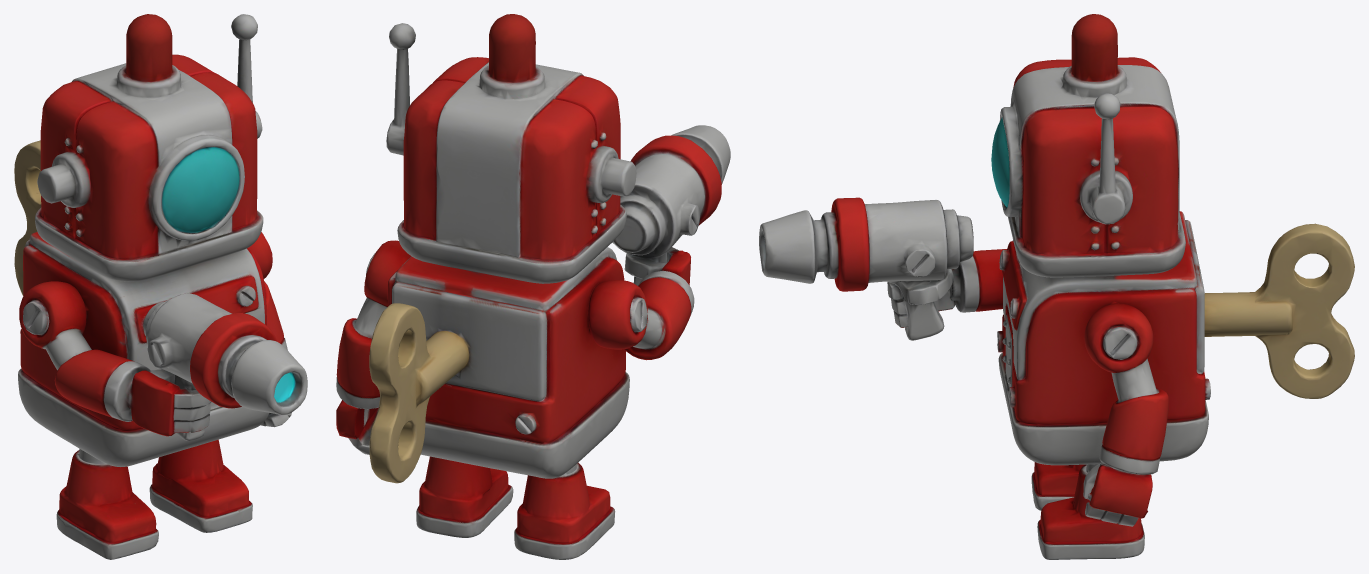
File: laser_robot.glb
3 renders of one model, left to right at view 1: azimuth 30°, elevation 25°; view 2: azimuth 150°, elevation 25°; view 3: azimuth 270°, elevation 25°, orthographic.
Parts seen in each view (by area): view 1: tripo_node_6b322546-209d-4e7f-a878-f4d951ab6703; view 2: tripo_node_6b322546-209d-4e7f-a878-f4d951ab6703; view 3: tripo_node_6b322546-209d-4e7f-a878-f4d951ab6703.
Part boxes in pixels (x1,y1,x2,y2): tripo_node_6b322546-209d-4e7f-a878-f4d951ab6703: (14, 14, 307, 559); tripo_node_6b322546-209d-4e7f-a878-f4d951ab6703: (336, 14, 730, 559); tripo_node_6b322546-209d-4e7f-a878-f4d951ab6703: (759, 14, 1354, 559).
Bounding box in the file's own units: 0.539 × 0.9358 × 1.
1 material, 1 textured.
